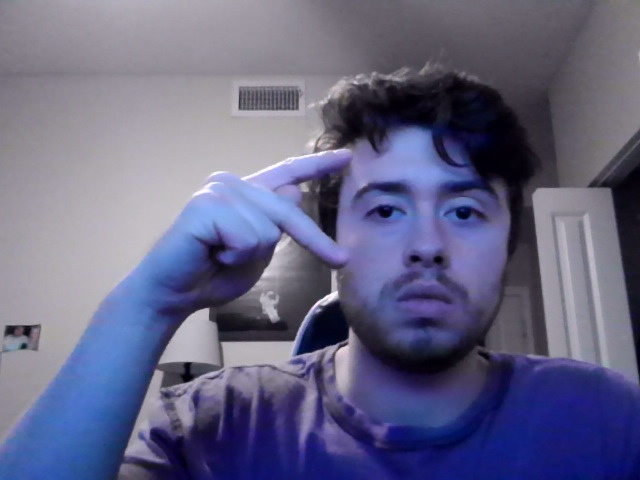p: (128, 148, 354, 332)
